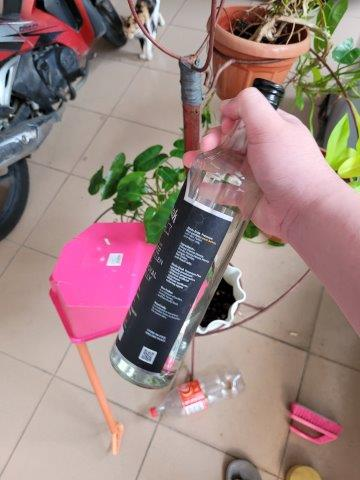botolkaca: (108, 82, 282, 386)
botolplastik: (151, 363, 250, 422)
